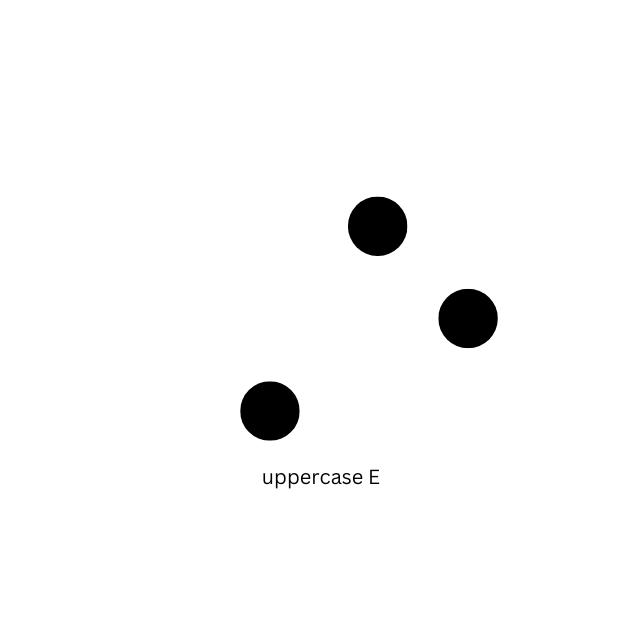capital_sign: (151, 194, 301, 440)
letter_E: (348, 195, 498, 441)
